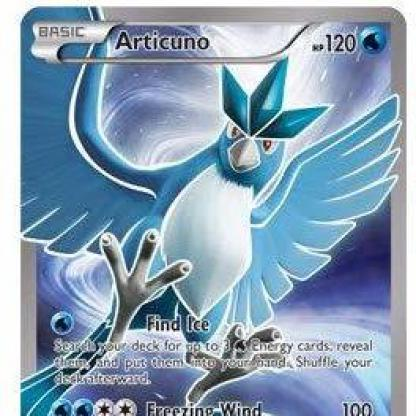Articuno: (25, 66, 416, 317)
